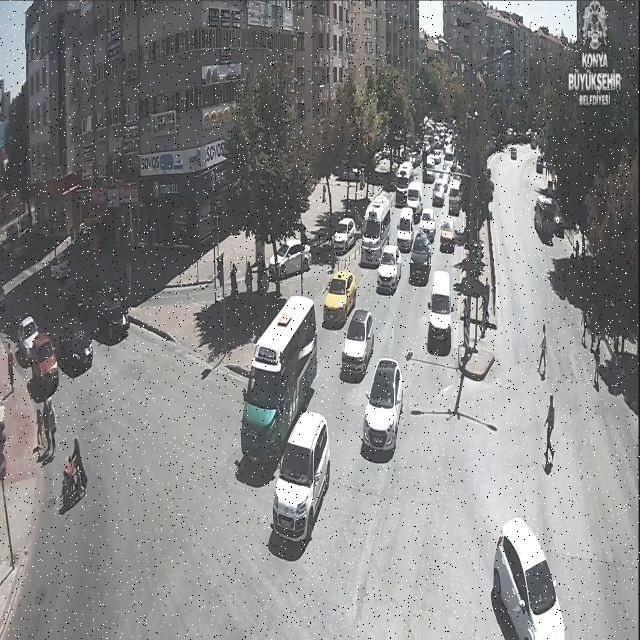Car: (493, 518, 566, 638), (272, 414, 331, 542), (359, 354, 412, 459), (341, 311, 375, 378), (322, 271, 358, 326), (30, 332, 60, 394), (267, 239, 311, 280), (93, 291, 129, 341), (57, 332, 94, 377), (534, 194, 563, 240), (15, 316, 41, 366), (409, 232, 433, 282), (376, 246, 402, 292), (332, 218, 357, 253), (418, 208, 437, 243), (439, 219, 456, 252), (50, 254, 70, 280), (447, 180, 462, 214), (432, 178, 448, 207), (336, 165, 362, 182), (422, 161, 436, 182), (432, 149, 444, 165), (425, 155, 436, 171), (444, 144, 455, 160), (536, 157, 545, 173), (510, 147, 518, 159)
Cycle: (56, 435, 94, 505)
Van: (241, 298, 319, 457), (356, 190, 394, 266), (427, 271, 452, 351), (396, 207, 416, 247), (395, 162, 414, 196), (406, 180, 423, 210)
